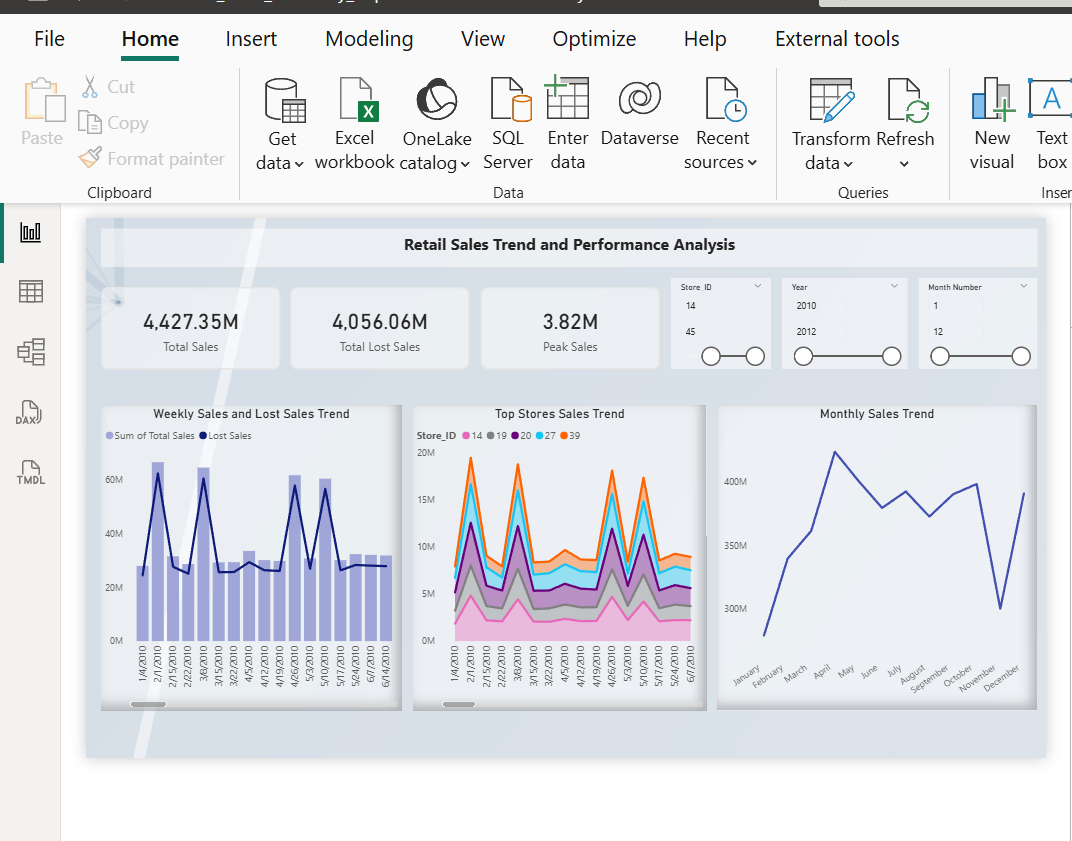

What the dashboard file says about the page in this screenshot:
{"tool":"powerbi","page":{"name":"Trend Analysis","canvas":[1280,720],"ordinal":1},"visuals":[{"type":"slicer","fields":{"Values":["dim_store.Store_ID"]},"box":[780.9,79.8,133.1,121.7],"z":0},{"type":"slicer","fields":{"Values":["dim_date.Year"]},"box":[928.5,79.8,167.3,121.7],"z":1000},{"type":"slicer","fields":{"Values":["dim_date.Month Number"]},"box":[1110.2,79.8,157.8,121.7],"z":2000},{"type":"lineClusteredColumnComboChart","title":"Weekly Sales and Lost Sales Trend","fields":{"Category":["dim_date.WeekStartDate"],"Y":["Sum(fact_sales.Total Sales)"],"Y2":["fact_sales.Lost Sales"]},"box":[19,250.9,401.1,406.8],"z":3000},{"type":"stackedAreaChart","title":"Top Stores Sales Trend","fields":{"Category":["dim_date.WeekStartDate"],"Y":["Sum(fact_sales.Total Sales)"],"Series":["dim_store.Store_ID"]},"box":[435.3,250.9,391.6,406.8],"z":4000},{"type":"lineChart","title":"Monthly Sales Trend","fields":{"Category":["dim_date.Month Name"],"Y":["Sum(fact_sales.Total Sales)"]},"box":[842.1,250.9,425.8,406.8],"z":5000},{"type":"textbox","box":[19,13.3,1249,51.3],"z":6000},{"type":"card","fields":{"Values":["Sum(fact_sales.Total Sales)"]},"box":[19,91.2,239.5,110.3],"z":7000},{"type":"card","fields":{"Values":["fact_sales.Total Lost Sales"]},"box":[273,91.2,239.5,110.3],"z":8000},{"type":"card","fields":{"Values":["fact_sales.Peak Sales"]},"box":[527,91.2,239.5,110.3],"z":9000}]}

Visuals, with their boxes on the page's 1280x720 design canvas (x1, y1, x2, y2). These are canvas units, not pixel positions in the 1072x841 screenshot, which may show the page scaled, cropped or inside an application window:
slicer - dim_store.Store_ID: x1=781 y1=80 x2=914 y2=202
slicer - dim_date.Year: x1=928 y1=80 x2=1096 y2=202
slicer - dim_date.Month Number: x1=1110 y1=80 x2=1268 y2=202
"Weekly Sales and Lost Sales Trend" lineClusteredColumnComboChart: x1=19 y1=251 x2=420 y2=658
"Top Stores Sales Trend" stackedAreaChart: x1=435 y1=251 x2=827 y2=658
"Monthly Sales Trend" lineChart: x1=842 y1=251 x2=1268 y2=658
textbox: x1=19 y1=13 x2=1268 y2=65
card - Sum(fact_sales.Total Sales): x1=19 y1=91 x2=258 y2=202
card - fact_sales.Total Lost Sales: x1=273 y1=91 x2=512 y2=202
card - fact_sales.Peak Sales: x1=527 y1=91 x2=766 y2=202
